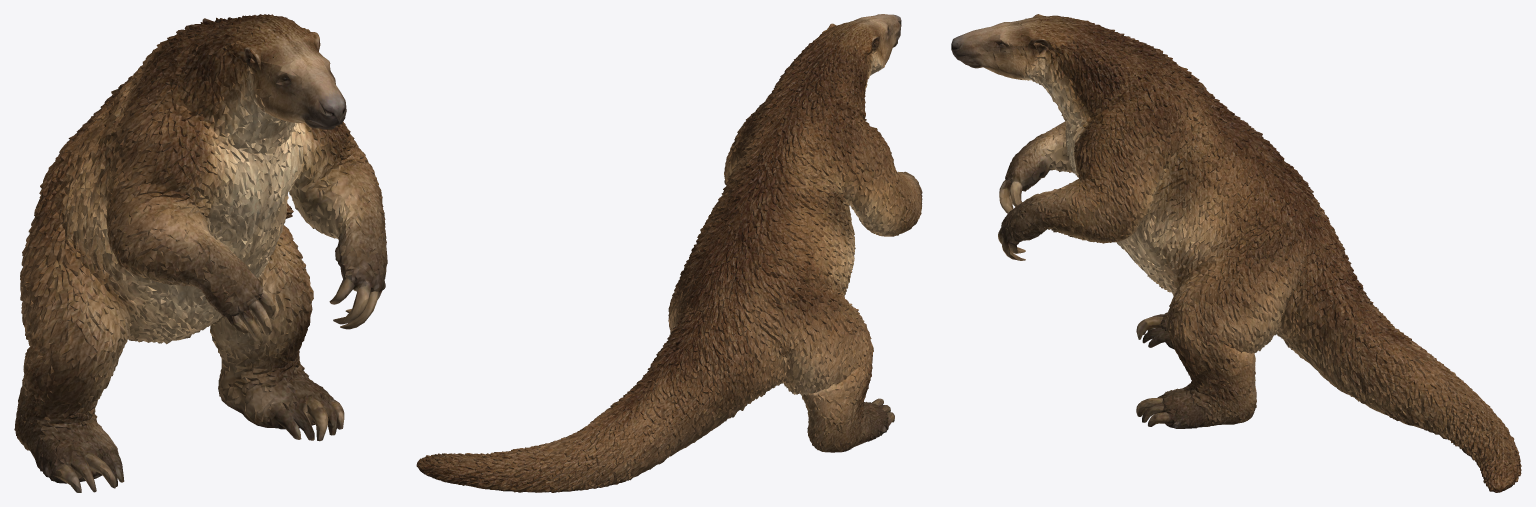
The picture shows the model from 3 angles, left to right: view 1: azimuth 30°, elevation 25°; view 2: azimuth 150°, elevation 25°; view 3: azimuth 270°, elevation 25°; orthographic projection. The views are drawn at different scales.
Parts seen in each view (by area): view 1: Authored orientation; view 2: Authored orientation; view 3: Authored orientation.
Boxes of the visible parts, bbox=[...] form: Authored orientation: bbox=[14, 14, 387, 492]; Authored orientation: bbox=[416, 14, 922, 492]; Authored orientation: bbox=[951, 14, 1521, 492].
Bounding box in the file's own units: 3.58 × 3.61 × 5.2.
1 material, 1 textured.
